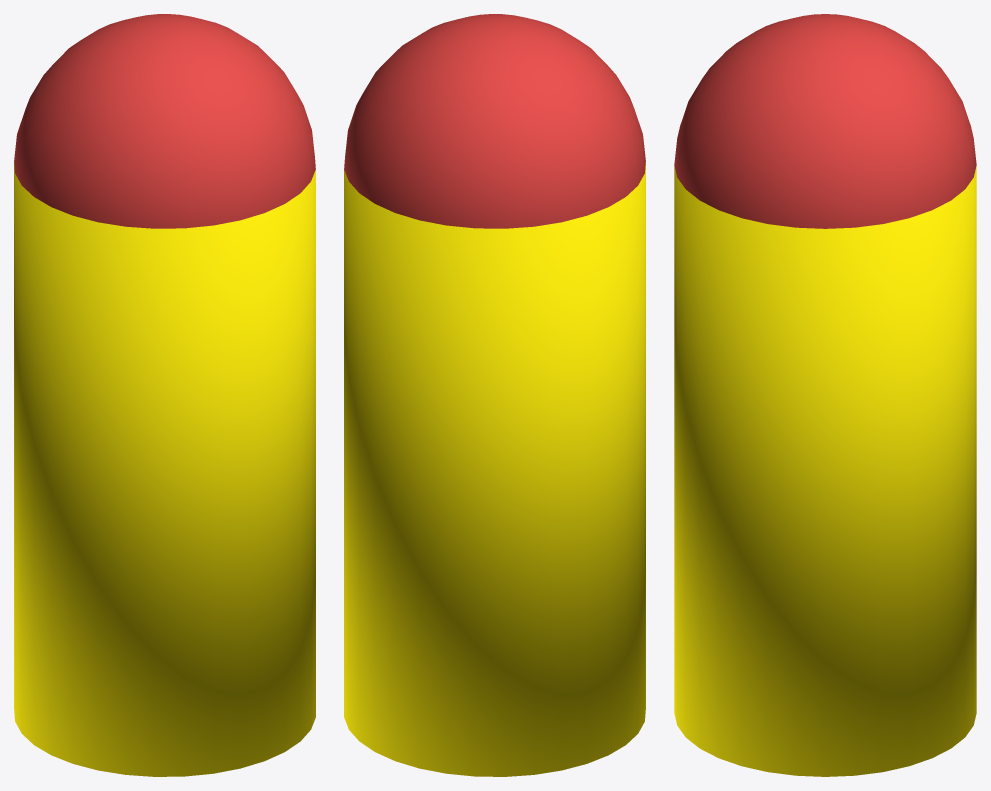
File: Dan1.fbx
3 views of the same model, side by side, from view 1: azimuth 30°, elevation 25°; view 2: azimuth 150°, elevation 25°; view 3: azimuth 270°, elevation 25° (orthographic).
Parts seen in each view (by area): view 1: Bullet_Body; view 2: Bullet_Body; view 3: Bullet_Body.
Boxes of the visible parts, box(x1,y1,x2,y2) form: Bullet_Body: box(14, 14, 315, 776); Bullet_Body: box(344, 14, 645, 776); Bullet_Body: box(674, 14, 976, 776).
Size of the model in its own units: 20 by 50 by 20.
